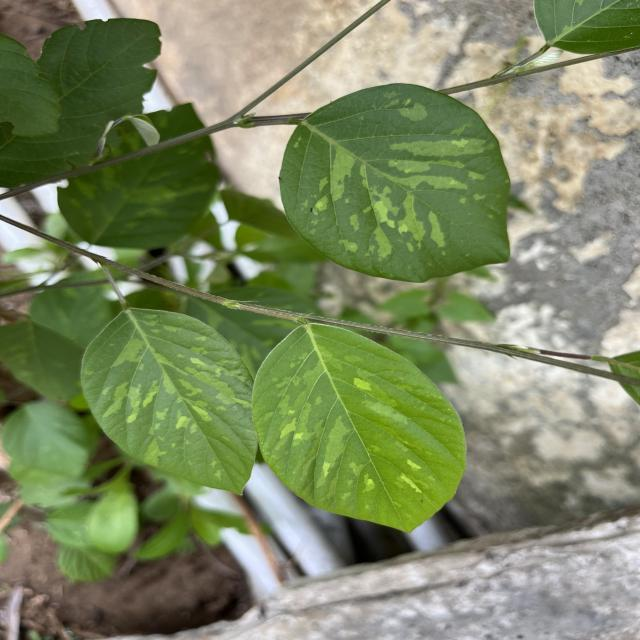Desmodium gangeticum: (274, 80, 517, 286), (246, 319, 472, 537), (75, 306, 262, 502)
